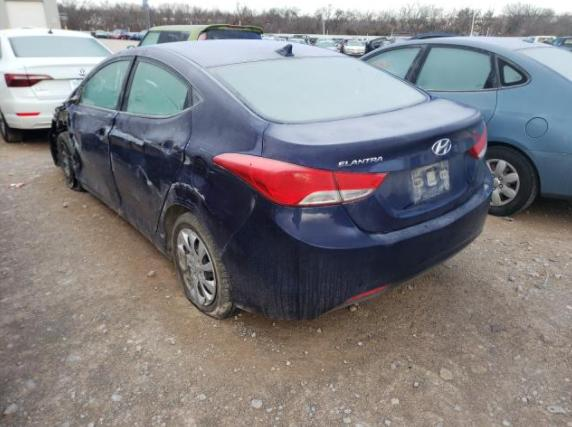Back-bumper: (223, 159, 493, 321)
Back-door: (108, 56, 192, 240)
Back-wheel: (171, 213, 240, 320)
Back-window: (127, 62, 188, 116)
Back-windshield: (204, 56, 426, 124)
Fender: (51, 100, 72, 135)
Front-bumper: (49, 134, 58, 165)
Front-door: (69, 56, 136, 213)
Front-wheel: (57, 132, 82, 190)
Front-window: (82, 61, 130, 109)
Mirror: (70, 87, 82, 104)
Quarter-panel: (155, 100, 268, 251)
Rocker-panel: (81, 181, 166, 257)
Roof: (135, 39, 349, 68)
Tail-light: (212, 152, 340, 208), (333, 171, 389, 203), (465, 121, 487, 161)
Trunk: (262, 95, 484, 234)
